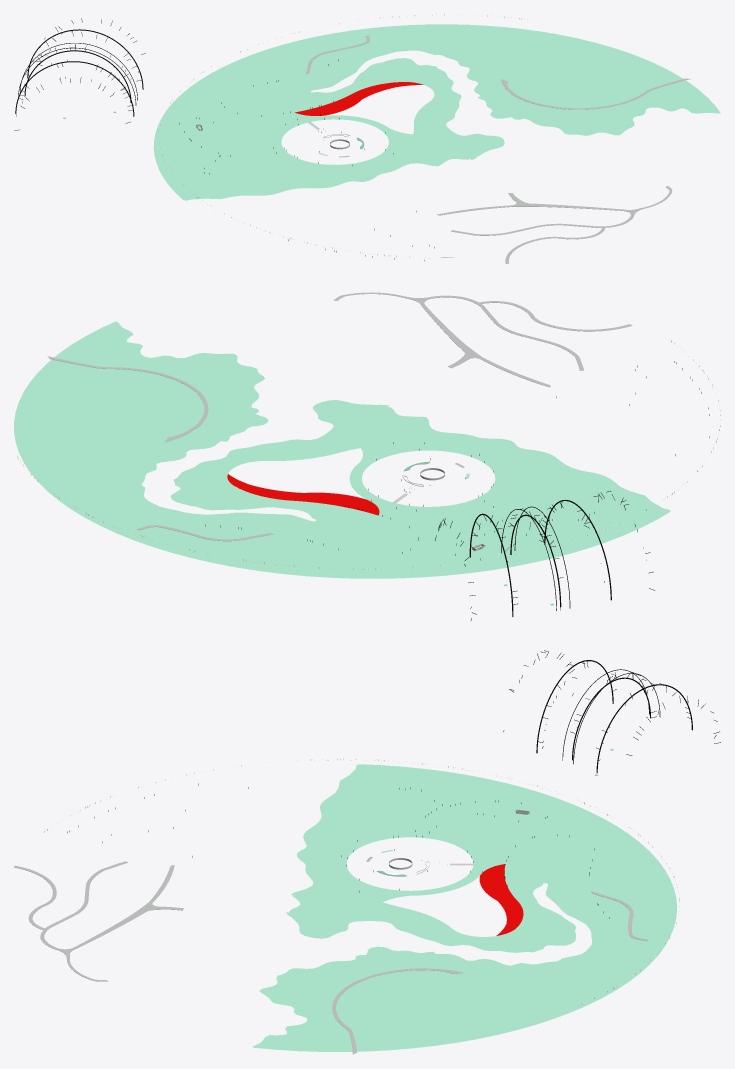
File: mahmoud-design-world-007.glb
The picture shows the model from 3 angles, top to bottom: view 1: azimuth 30°, elevation 25°; view 2: azimuth 150°, elevation 25°; view 3: azimuth 270°, elevation 25°; orthographic projection. The views are drawn at different scales.
Parts seen in each view (by area): view 1: DESIGN-OCCURRENCE-KAP-R2-FEA993B4BF1CC9BDA13A7552, DESIGN-OCCURRENCE-KAP-R2-7D7FFB23A41BA746AD0AF44A, DESIGN-OCCURRENCE-KAP-R2-6E51C8C4F0EE6DBD55B2DCA4, DESIGN-OCCURRENCE-KAP-R2-1AC6A084B4079EFAAA4F3499, DESIGN-OCCURRENCE-KAP-R2-97C1E4106163E12CFC6DC202; view 2: DESIGN-OCCURRENCE-KAP-R2-FEA993B4BF1CC9BDA13A7552, DESIGN-OCCURRENCE-KAP-R2-7D7FFB23A41BA746AD0AF44A, DESIGN-OCCURRENCE-KAP-R2-6E51C8C4F0EE6DBD55B2DCA4, DESIGN-OCCURRENCE-KAP-R2-1AC6A084B4079EFAAA4F3499, DESIGN-OCCURRENCE-KAP-R2-97C1E4106163E12CFC6DC202; view 3: DESIGN-OCCURRENCE-KAP-R2-FEA993B4BF1CC9BDA13A7552, DESIGN-OCCURRENCE-KAP-R2-7D7FFB23A41BA746AD0AF44A, DESIGN-OCCURRENCE-KAP-R2-6E51C8C4F0EE6DBD55B2DCA4, DESIGN-OCCURRENCE-KAP-R2-1AC6A084B4079EFAAA4F3499, DESIGN-OCCURRENCE-KAP-R2-97C1E4106163E12CFC6DC202.
Boxes of the visible parts, bbox=[...] form: DESIGN-OCCURRENCE-KAP-R2-FEA993B4BF1CC9BDA13A7552: bbox=[153, 24, 720, 200]; DESIGN-OCCURRENCE-KAP-R2-7D7FFB23A41BA746AD0AF44A: bbox=[437, 186, 672, 235]; DESIGN-OCCURRENCE-KAP-R2-6E51C8C4F0EE6DBD55B2DCA4: bbox=[294, 82, 423, 115]; DESIGN-OCCURRENCE-KAP-R2-1AC6A084B4079EFAAA4F3499: bbox=[242, 92, 282, 108]; DESIGN-OCCURRENCE-KAP-R2-97C1E4106163E12CFC6DC202: bbox=[501, 78, 690, 109]; DESIGN-OCCURRENCE-KAP-R2-FEA993B4BF1CC9BDA13A7552: bbox=[14, 321, 670, 578]; DESIGN-OCCURRENCE-KAP-R2-7D7FFB23A41BA746AD0AF44A: bbox=[334, 292, 583, 387]; DESIGN-OCCURRENCE-KAP-R2-6E51C8C4F0EE6DBD55B2DCA4: bbox=[227, 474, 379, 515]; DESIGN-OCCURRENCE-KAP-R2-1AC6A084B4079EFAAA4F3499: bbox=[343, 527, 392, 548]; DESIGN-OCCURRENCE-KAP-R2-97C1E4106163E12CFC6DC202: bbox=[48, 356, 208, 442]; DESIGN-OCCURRENCE-KAP-R2-FEA993B4BF1CC9BDA13A7552: bbox=[252, 764, 677, 1051]; DESIGN-OCCURRENCE-KAP-R2-7D7FFB23A41BA746AD0AF44A: bbox=[40, 861, 183, 981]; DESIGN-OCCURRENCE-KAP-R2-6E51C8C4F0EE6DBD55B2DCA4: bbox=[479, 864, 523, 935]; DESIGN-OCCURRENCE-KAP-R2-1AC6A084B4079EFAAA4F3499: bbox=[530, 847, 577, 866]; DESIGN-OCCURRENCE-KAP-R2-97C1E4106163E12CFC6DC202: bbox=[332, 968, 463, 1054].
Size of the model in its own units: 402 by 50.33 by 358.
